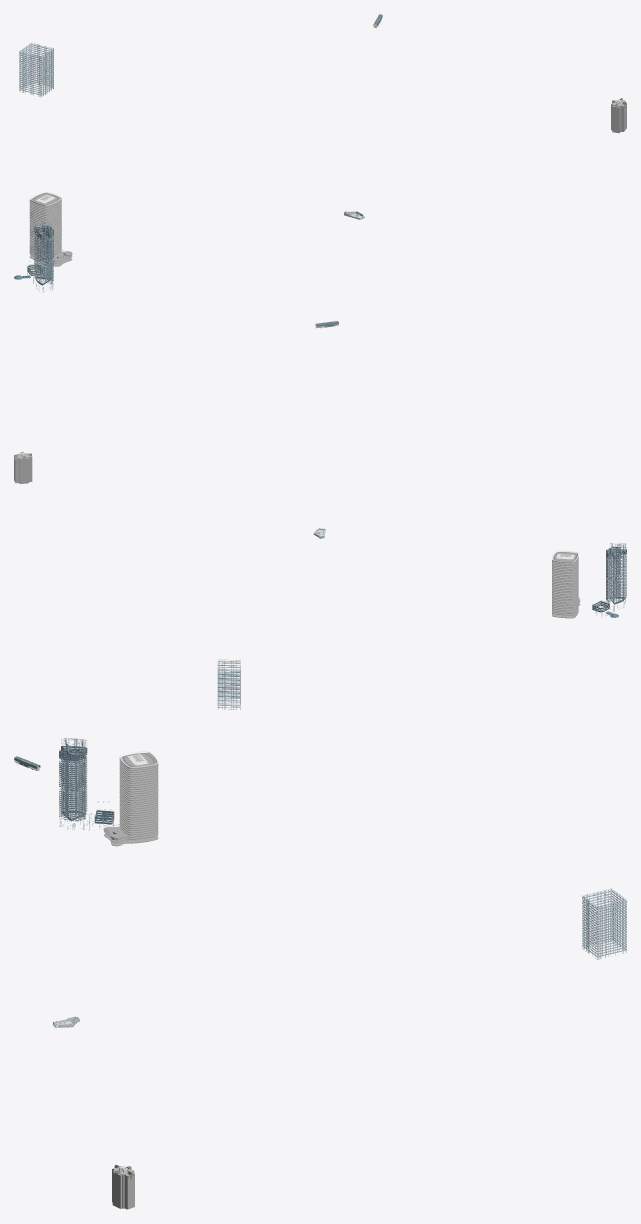
File: lujiazui-10.glb
The picture shows the model from 3 angles, top to bottom: view 1: azimuth 30°, elevation 25°; view 2: azimuth 150°, elevation 25°; view 3: azimuth 270°, elevation 25°; orthographic projection. The views are drawn at different scales.
Parts seen in each view (by area): view 1: source_2697_Mat3d66-1303573-2153-4388_part0, source_2530_Mat3d66-1303573-2110-2540_part0, source_2692_Mat3d66-1303573-2170-3213_part0, source_2693_Mat3d66-1303573-2119-613_part0, source_2666_st 特价 简模F_part0; view 2: source_2697_Mat3d66-1303573-2153-4388_part0, source_2530_Mat3d66-1303573-2110-2540_part0, source_2692_Mat3d66-1303573-2170-3213_part0, source_2693_Mat3d66-1303573-2119-613_part0; view 3: source_2697_Mat3d66-1303573-2153-4388_part0, source_2530_Mat3d66-1303573-2110-2540_part0, source_2693_Mat3d66-1303573-2119-613_part0, source_2692_Mat3d66-1303573-2170-3213_part0.
Part boxes in pixels (box(x1,y1,x2,y2)): source_2697_Mat3d66-1303573-2153-4388_part0: box(29, 193, 72, 266); source_2530_Mat3d66-1303573-2110-2540_part0: box(19, 42, 53, 97); source_2692_Mat3d66-1303573-2170-3213_part0: box(14, 225, 53, 285); source_2693_Mat3d66-1303573-2119-613_part0: box(14, 222, 53, 284); source_2666_st 特价 简模F_part0: box(611, 103, 626, 133); source_2697_Mat3d66-1303573-2153-4388_part0: box(552, 552, 580, 618); source_2530_Mat3d66-1303573-2110-2540_part0: box(217, 659, 240, 709); source_2692_Mat3d66-1303573-2170-3213_part0: box(592, 547, 626, 617); source_2693_Mat3d66-1303573-2119-613_part0: box(592, 544, 626, 617); source_2697_Mat3d66-1303573-2153-4388_part0: box(103, 753, 158, 846); source_2530_Mat3d66-1303573-2110-2540_part0: box(582, 888, 626, 959); source_2693_Mat3d66-1303573-2119-613_part0: box(59, 739, 114, 824); source_2692_Mat3d66-1303573-2170-3213_part0: box(59, 746, 113, 824).
Size of the model in its own units: 1411 by 449 by 929.
